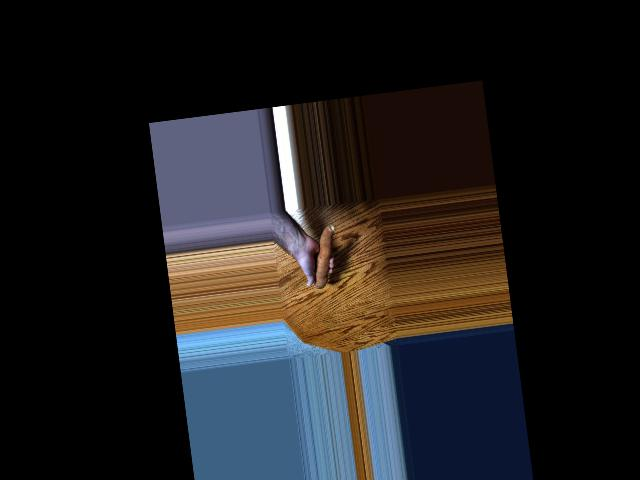sweet_potato: (308, 225, 332, 290)
